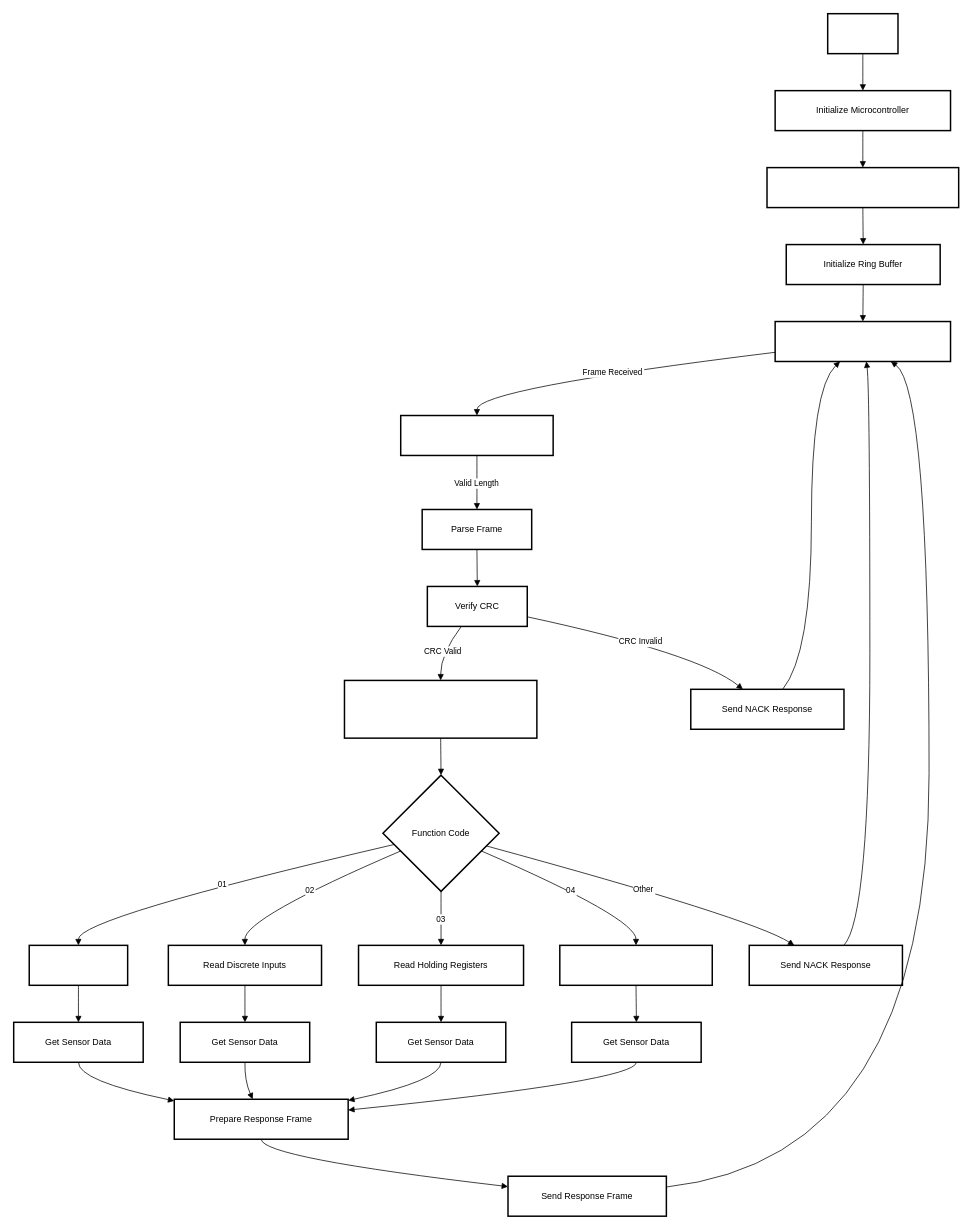
Image size: 972x1229. Some labels were removed from this diagram. Each missing label, with the box of its shape:
Check Frame Length: (400, 414, 554, 456)
Extract Function Code and Address: (343, 679, 537, 739)
Read Coils: (28, 944, 128, 986)
Read Input Registers: (559, 944, 713, 986)
Setup UART Communication: (766, 166, 959, 208)
Start: (827, 13, 898, 54)
Wait for Incoming Frame: (774, 320, 951, 362)
